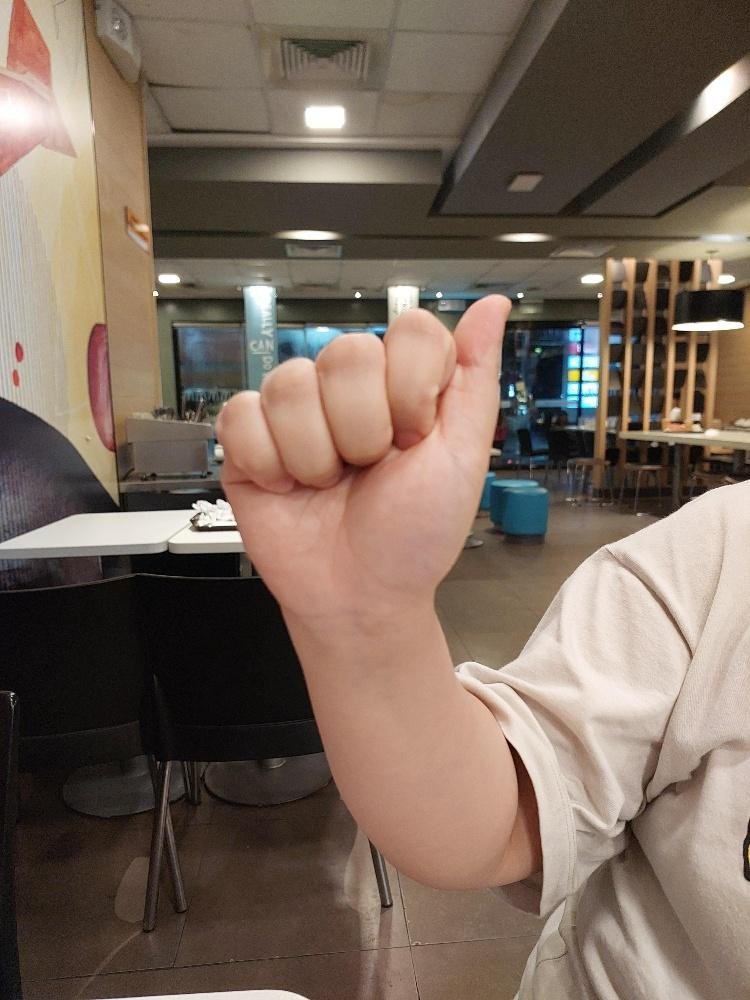a: (215, 290, 513, 613)
